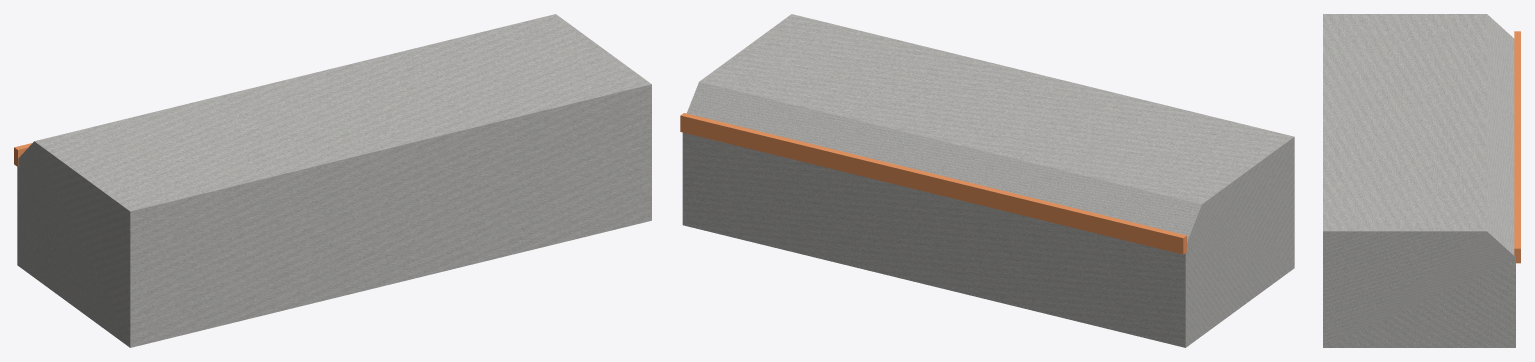
File: skate-park-and-street-sports-ledge-block-20268130__33519.glb
The picture shows the model from 3 angles, left to right: view 1: azimuth 30°, elevation 25°; view 2: azimuth 150°, elevation 25°; view 3: azimuth 270°, elevation 25°; orthographic projection. The views are drawn at different scales.
Visible parts, largest first — view 1: ledge-block-concrete; view 2: ledge-block-concrete, ledge-block-sunset; view 3: ledge-block-concrete, ledge-block-sunset.
Part boxes in pixels (x1,y1,x2,y2): ledge-block-concrete: [17, 14, 651, 347]; ledge-block-concrete: [682, 14, 1294, 347]; ledge-block-sunset: [680, 113, 1186, 254]; ledge-block-concrete: [1323, 14, 1515, 347]; ledge-block-sunset: [1514, 31, 1520, 263].
Size of the model in its own units: 1.6 by 0.4001 by 0.615.
2 materials, 1 textured.
